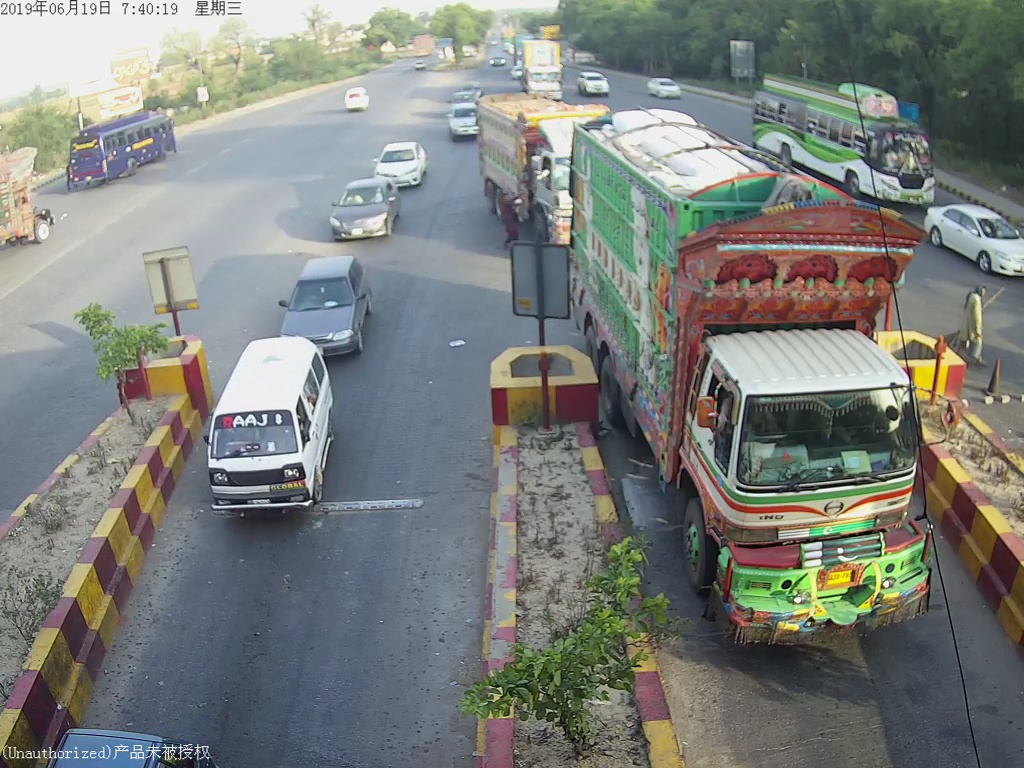Cat-1: (212, 344, 334, 517), (280, 257, 370, 342), (326, 176, 399, 242), (370, 142, 423, 179)
Cat-4: (575, 114, 943, 645)
